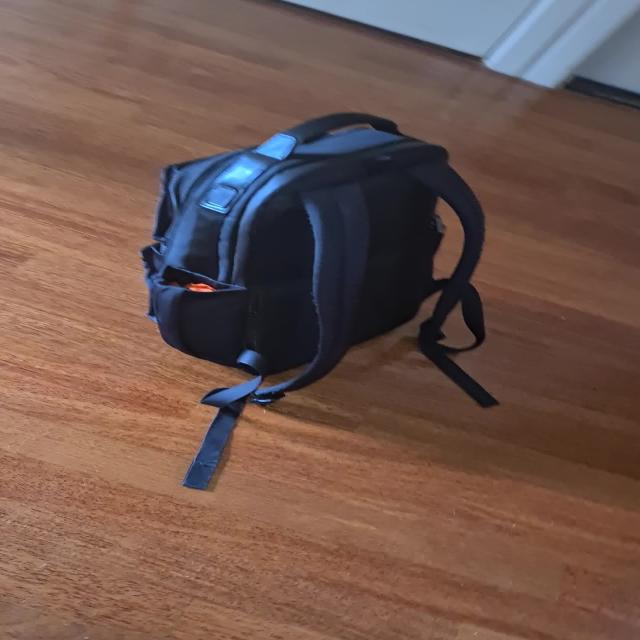backpack: (127, 98, 496, 390)
